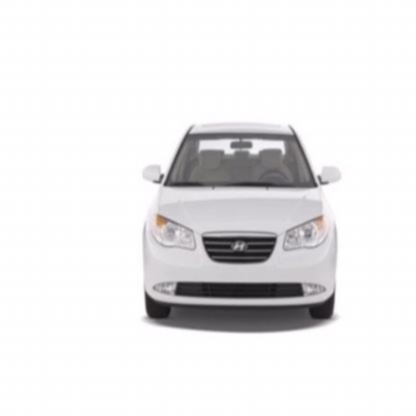Vehicle: (142, 122, 342, 320)
